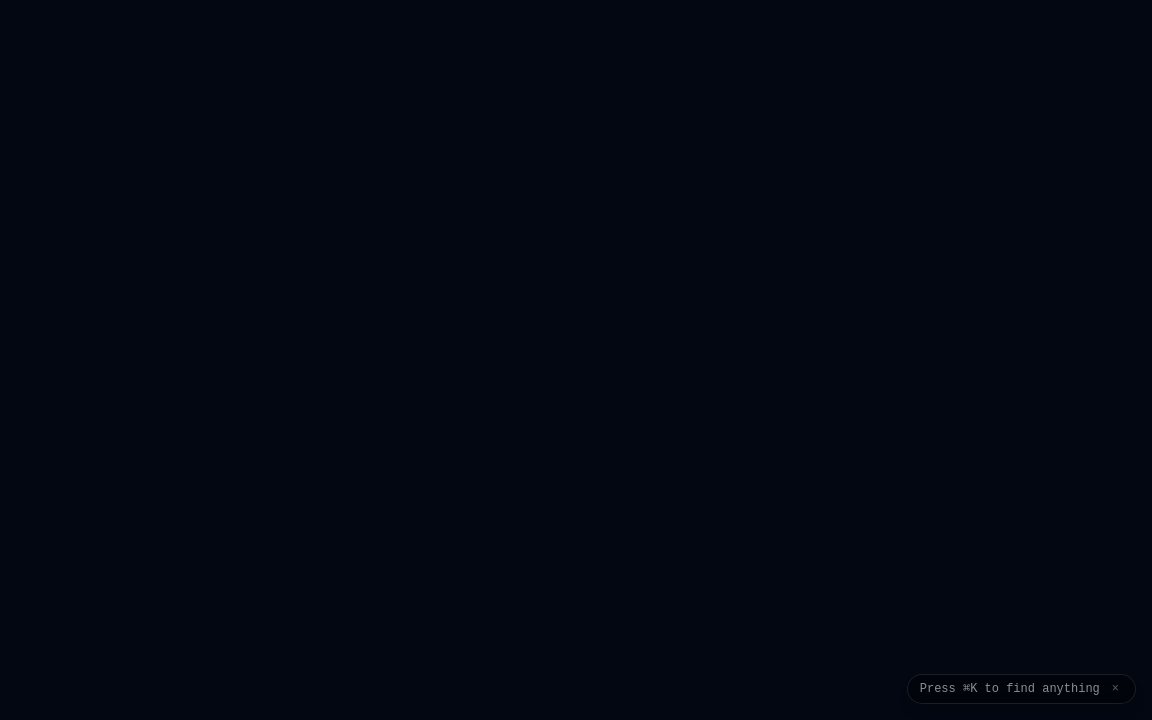
it: CommandPalette › renders method badges with breakdown tooltip
Press k
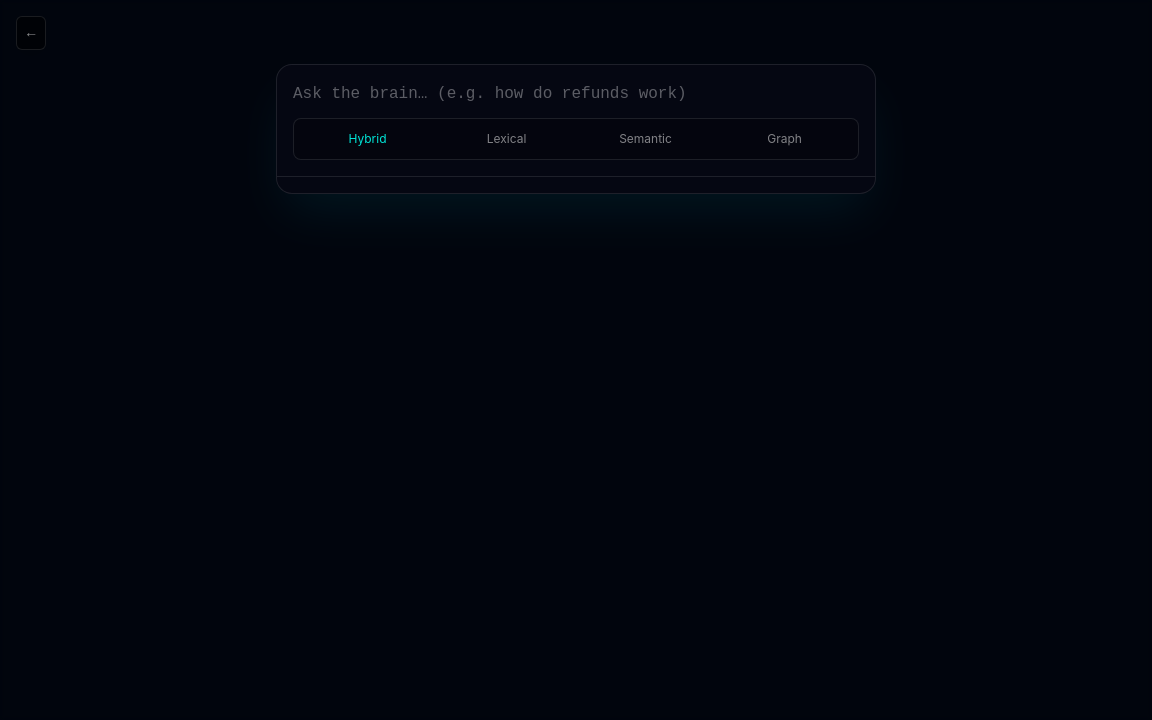
Type "refund" into the field with placeholder "Ask the brain… (e.g. how do refunds work)". click: (576, 94)
box: [293,82,859,106]
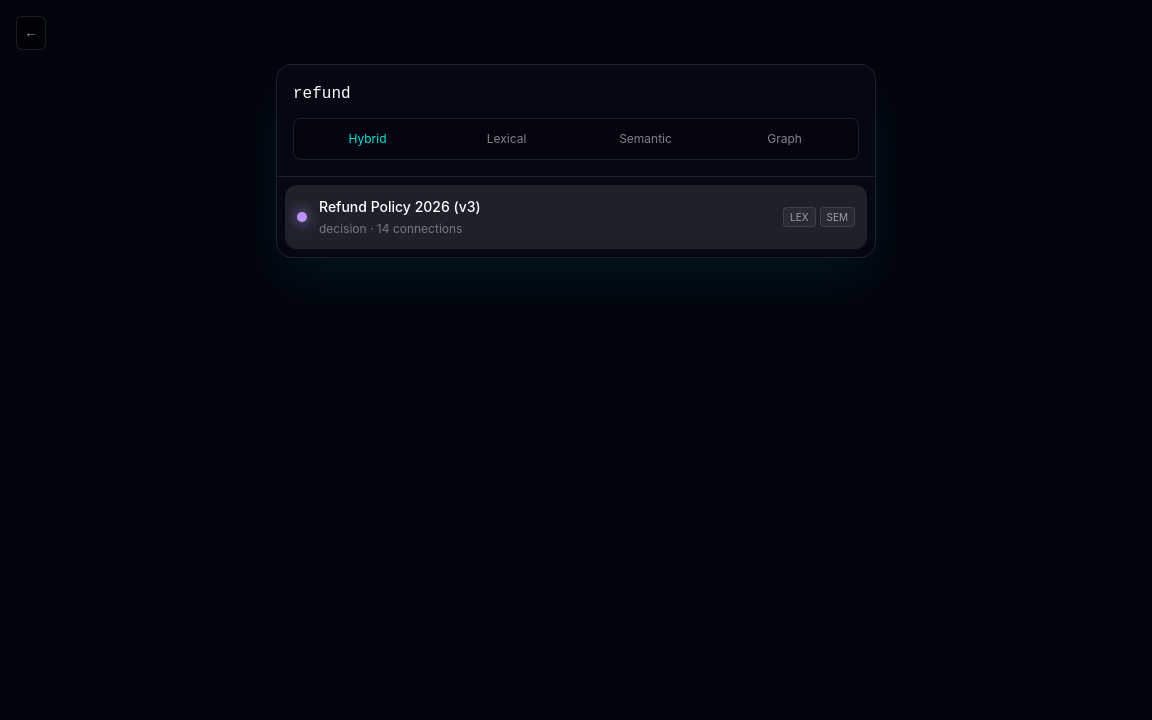
expect the text "lex" is shown: met, box [783,207,816,227]
expect the text "sem" is shown: met, box [820,207,855,227]
